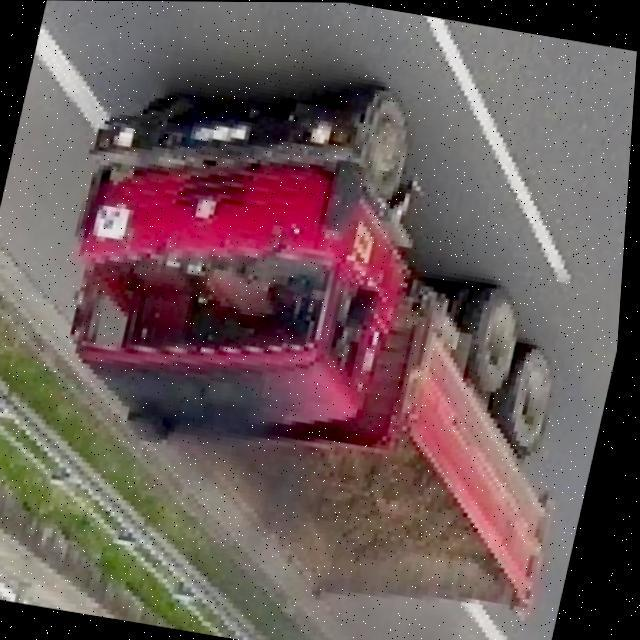truck: (8, 42, 638, 630)
